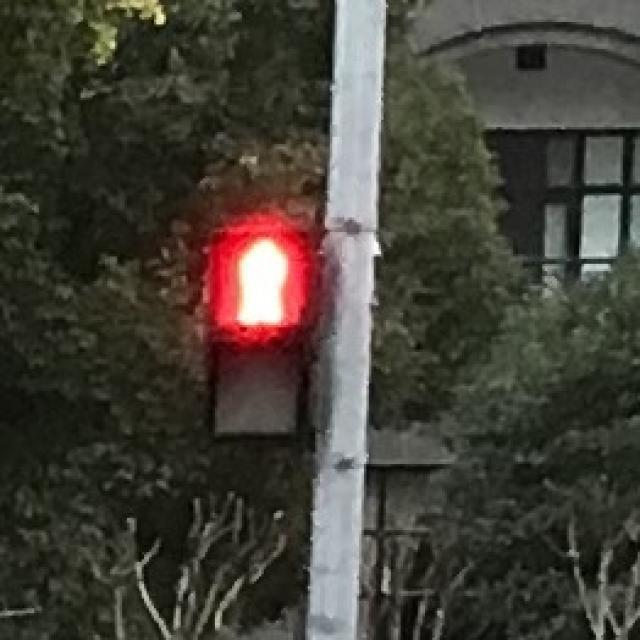red-crossing: (218, 224, 306, 334)
